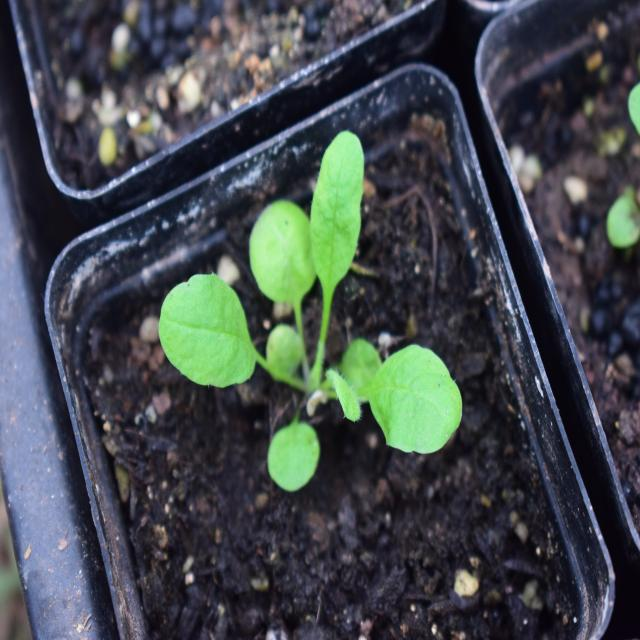Shepherd_Purse: (168, 128, 440, 488)
